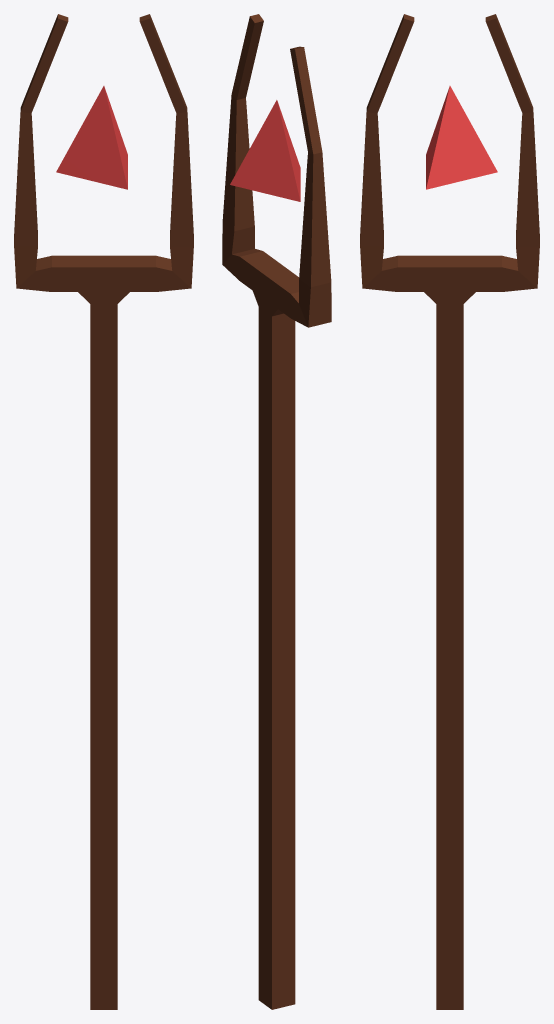
File: CompleteBetterStaffForPlayer.fbx
3 renders of one model, left to right at view 1: azimuth 90°, elevation 25°; view 2: azimuth 210°, elevation 25°; view 3: azimuth 270°, elevation 25°, orthographic.
Parts seen in each view (by area): view 1: Cube, Cone; view 2: Cube, Cone; view 3: Cube, Cone.
Boxes of the visible parts, bbox=[...] form: Cube: bbox=[14, 14, 193, 1009]; Cone: bbox=[56, 86, 127, 189]; Cube: bbox=[222, 14, 331, 1009]; Cone: bbox=[230, 100, 300, 201]; Cube: bbox=[360, 14, 539, 1009]; Cone: bbox=[426, 86, 497, 189].
Size of the model in its own units: 19.4 by 254 by 41.99.
